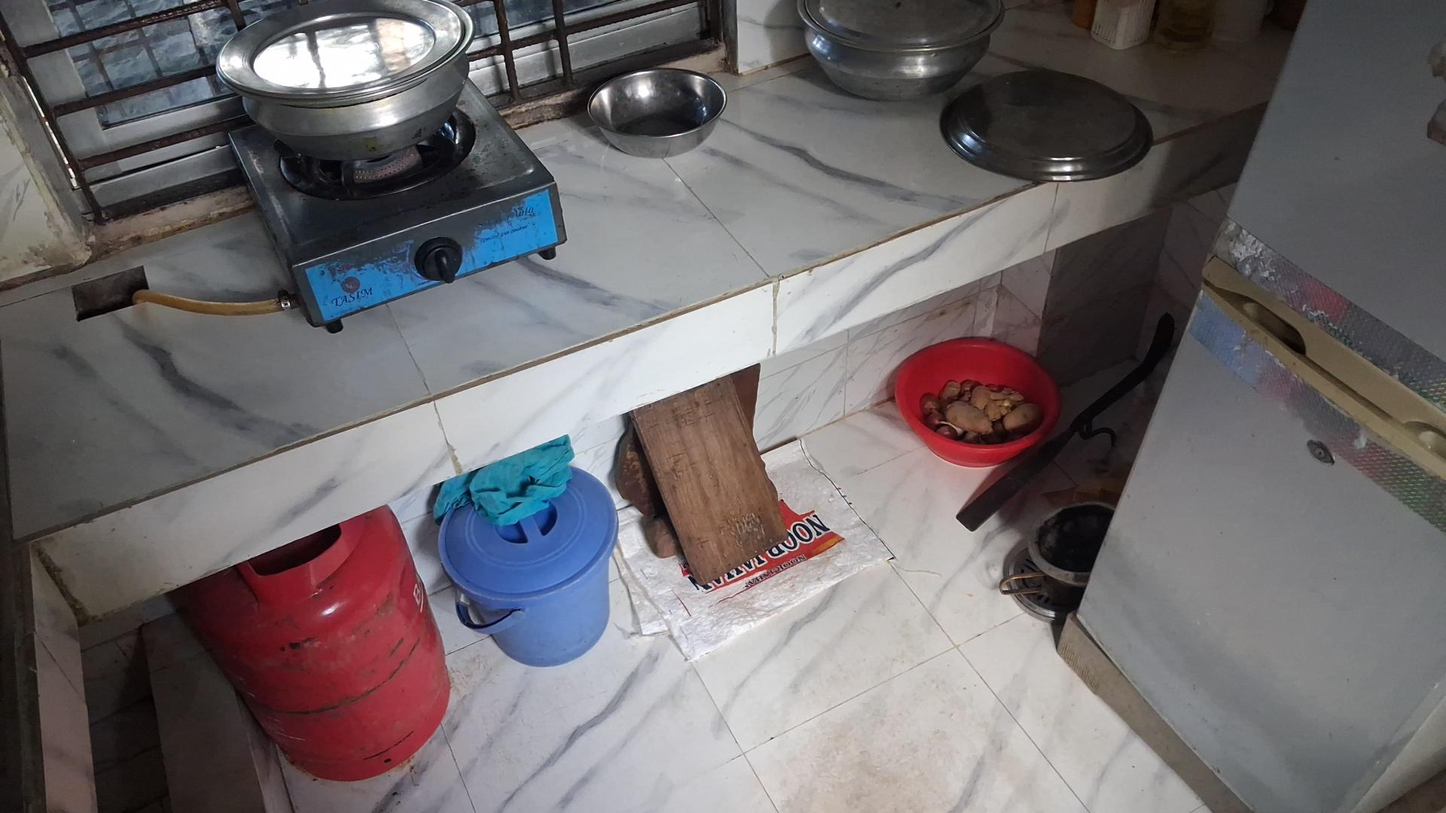Bowl: (894, 336, 1061, 469), (586, 67, 727, 159)
Bucket: (436, 465, 617, 665)
Food: (915, 376, 1036, 458)
Plate: (949, 61, 1151, 184)
Pot: (217, 13, 477, 165), (796, 2, 1004, 101)
